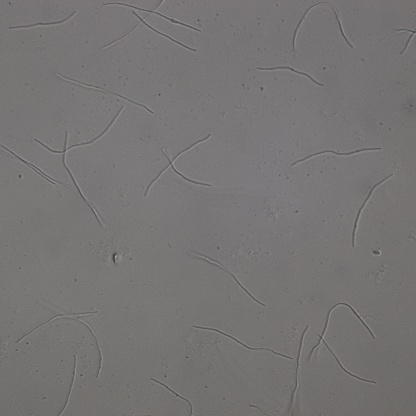Sensitive: (307, 301, 379, 385), (99, 1, 200, 54), (34, 106, 125, 153), (189, 251, 266, 306), (144, 134, 212, 196), (61, 131, 104, 227), (193, 325, 292, 360), (290, 1, 355, 53), (350, 174, 393, 248), (1, 145, 70, 190), (294, 141, 383, 164), (9, 8, 76, 37), (151, 378, 194, 416), (289, 326, 308, 412), (52, 355, 77, 416), (258, 64, 325, 86)
